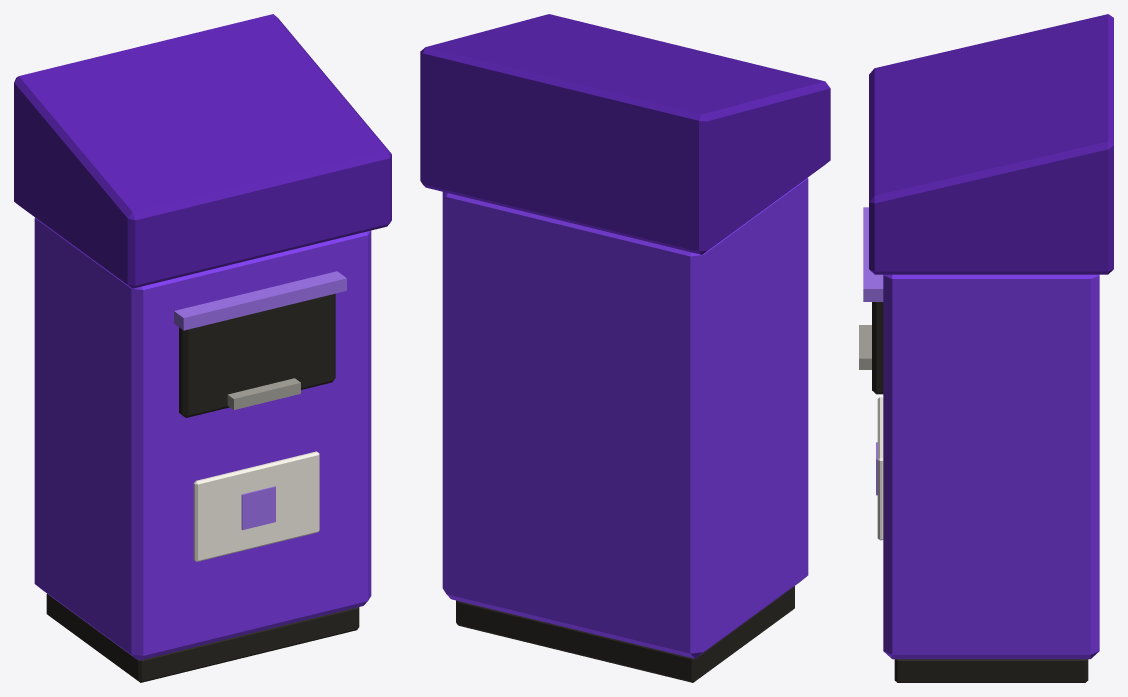
Rendered from cloth-bin.glb.
3 renders of one model, left to right at view 1: azimuth 30°, elevation 25°; view 2: azimuth 150°, elevation 25°; view 3: azimuth 270°, elevation 25°, orthographic. The views are drawn at different scales.
Visible parts, largest first — view 1: body, body3, ink, paper, body2, metal; view 2: body, body3, ink; view 3: body, body3, ink, body2, paper, metal.
Boxes of the visible parts, x1,y1,x2,y2 form: body: (34, 217, 371, 660); body3: (14, 14, 391, 288); ink: (46, 293, 359, 682); paper: (193, 451, 319, 561); body2: (174, 271, 346, 530); metal: (227, 378, 300, 409); body: (442, 177, 808, 658); body3: (420, 14, 830, 254); ink: (456, 586, 794, 682); body: (883, 274, 1099, 659); body3: (869, 14, 1113, 274); ink: (872, 302, 1088, 682); body2: (863, 207, 883, 495); paper: (877, 397, 883, 540); metal: (859, 325, 871, 369).
Size of the model in its own units: 5.5 by 10.68 by 4.48.
